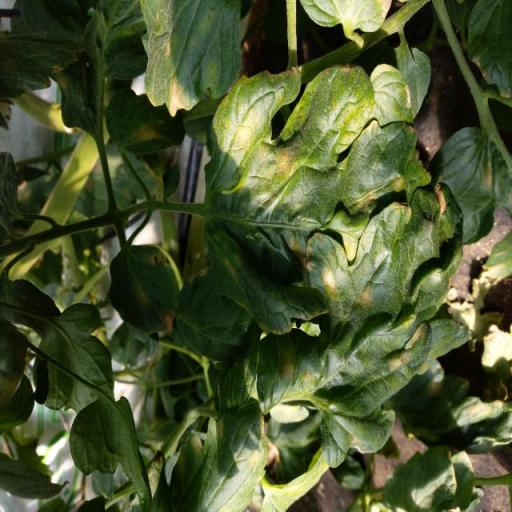disease_tomato: (204, 64, 432, 335), (218, 314, 432, 470), (304, 177, 463, 323), (138, 0, 244, 120)
